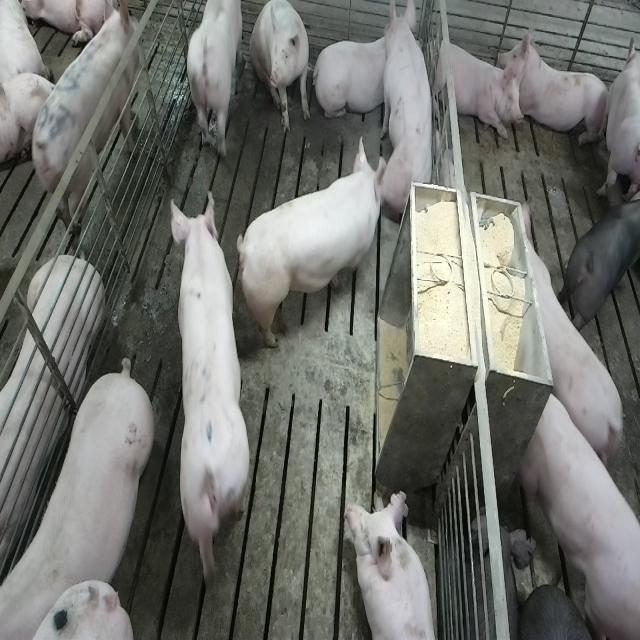Feeding: (233, 138, 382, 352)
Lateral_lying: (0, 255, 104, 568)
Sitting: (379, 4, 438, 221), (250, 3, 311, 137)
Standing: (175, 196, 259, 593), (516, 392, 638, 640), (31, 0, 146, 233), (529, 268, 625, 486), (565, 187, 640, 338), (186, 0, 243, 161)
Sternal_lying: (500, 19, 610, 150), (347, 489, 439, 640), (316, 33, 394, 124)
